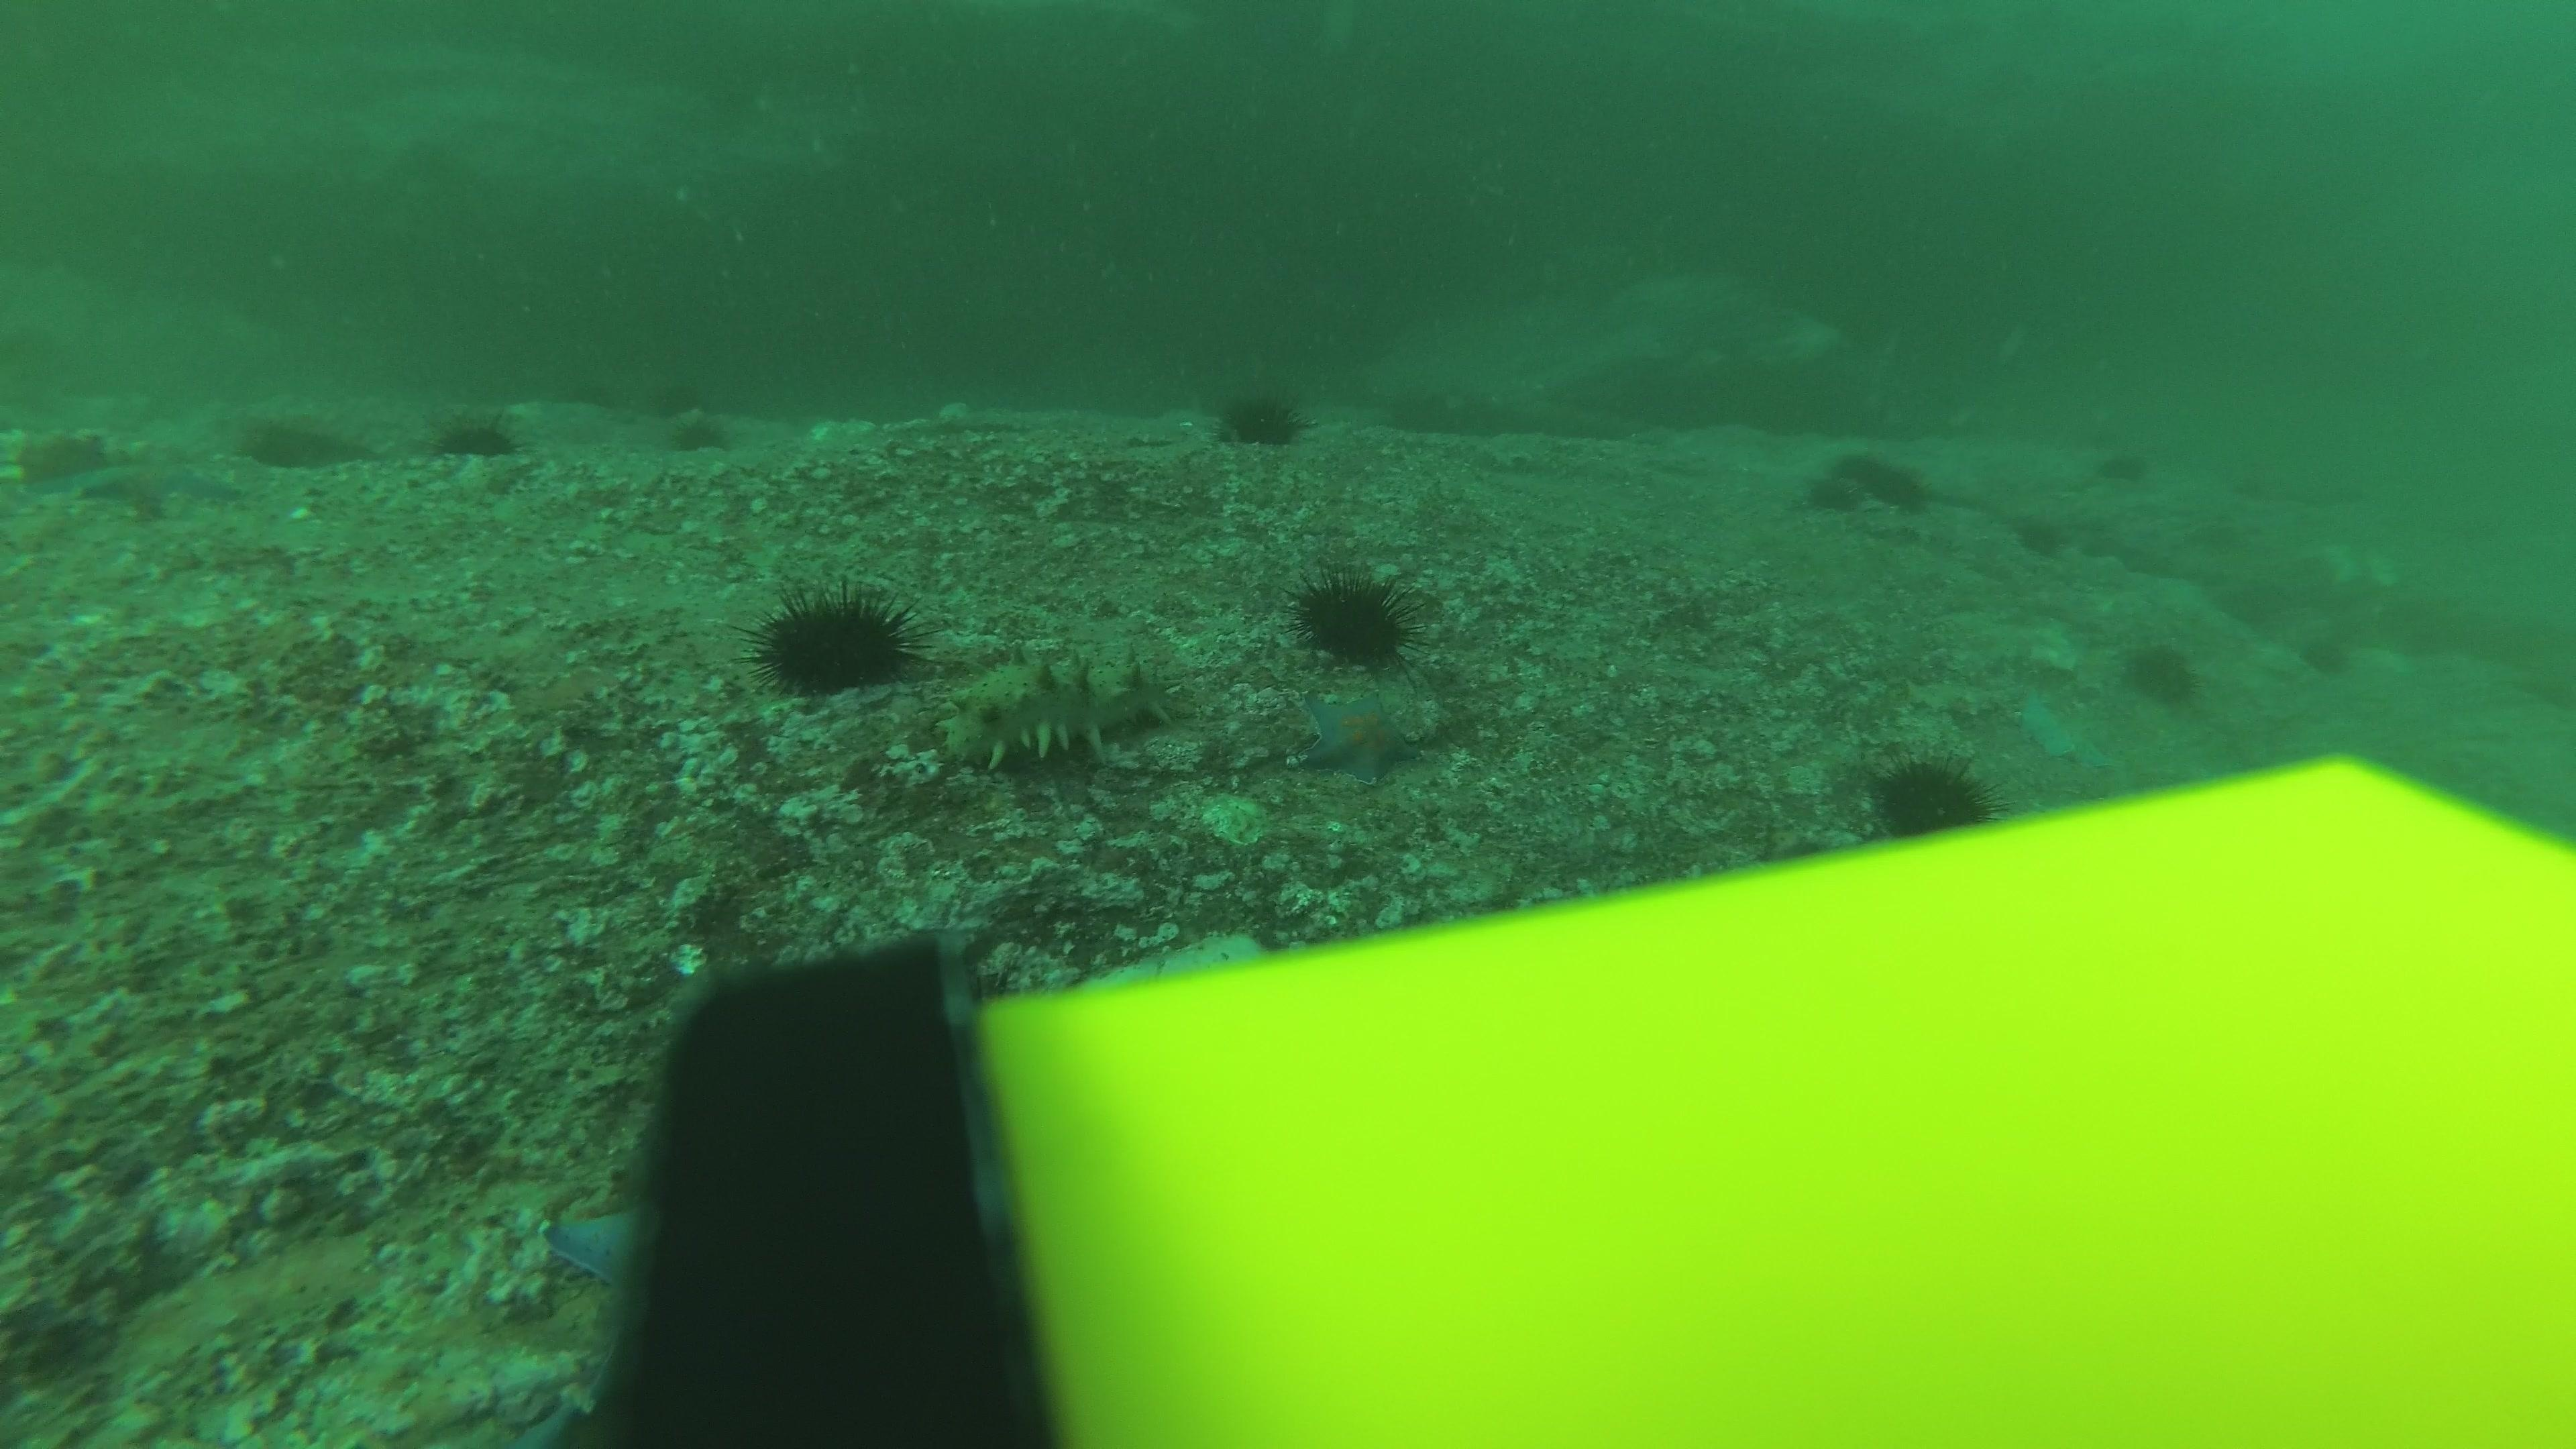echinus: (750, 582, 918, 701), (1292, 564, 1419, 669), (1867, 748, 1997, 840), (2120, 635, 2206, 709), (1217, 382, 1307, 451), (432, 407, 522, 462), (1868, 460, 1936, 513), (1826, 435, 1893, 488), (1796, 472, 1861, 525), (663, 405, 732, 455), (2295, 626, 2357, 681), (2012, 508, 2068, 559), (2095, 442, 2151, 488)
holothurian: (931, 648, 1189, 777)
starfish: (538, 1185, 660, 1302), (64, 444, 246, 517), (1293, 686, 1424, 786), (2013, 683, 2116, 770), (7, 421, 111, 488)
